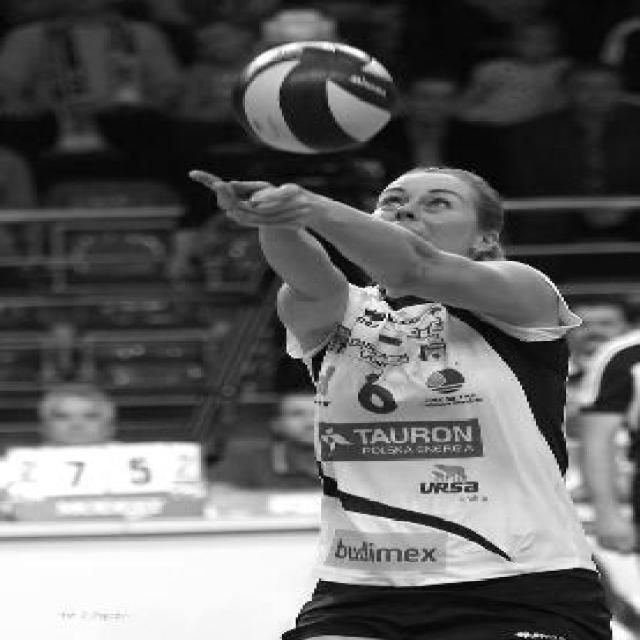volleyball: (232, 38, 400, 155)
